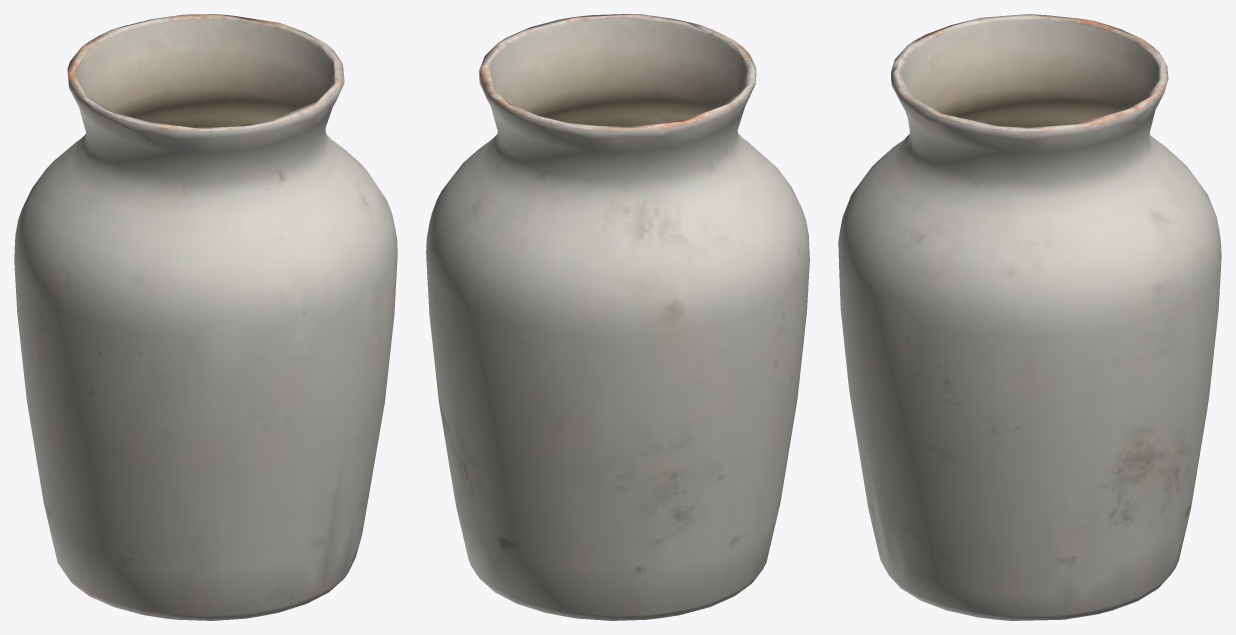
Rendered from vasija.glb.
3 renders of one model, left to right at view 1: azimuth 30°, elevation 25°; view 2: azimuth 150°, elevation 25°; view 3: azimuth 270°, elevation 25°, orthographic.
Visible parts, largest first — view 1: ceramic_vase_02; view 2: ceramic_vase_02; view 3: ceramic_vase_02.
Boxes of the visible parts, bbox=[...] form: ceramic_vase_02: bbox=[14, 14, 397, 620]; ceramic_vase_02: bbox=[426, 14, 809, 620]; ceramic_vase_02: bbox=[838, 14, 1221, 620].
Bounding box in the file's own units: 0.2184 × 0.3091 × 0.218.
1 material, 1 textured.
